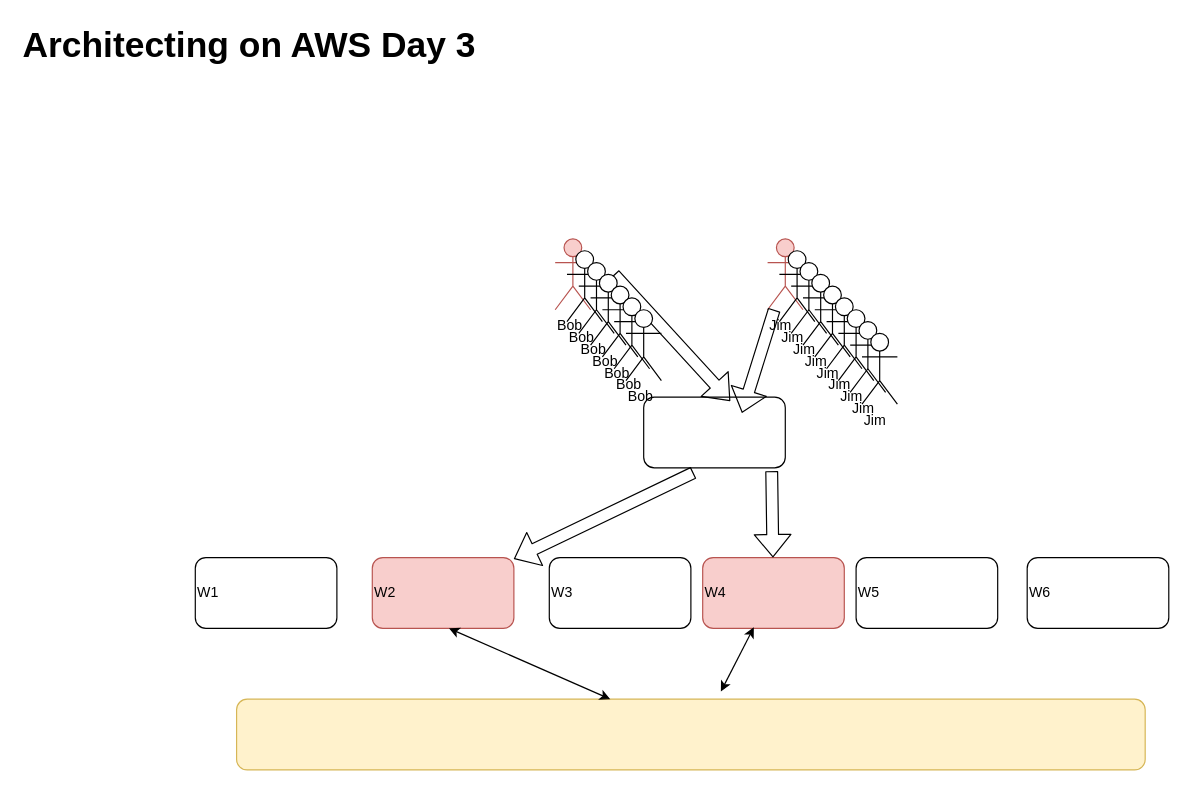
This 1189x791 diagram has some shape labels left out. The shapes that lost their labels are listed below. From the top down, each one's centre as x and y in pixels, then its label:
pixel 714 432: LOAD BALANCER
pixel 690 734: User sessions
